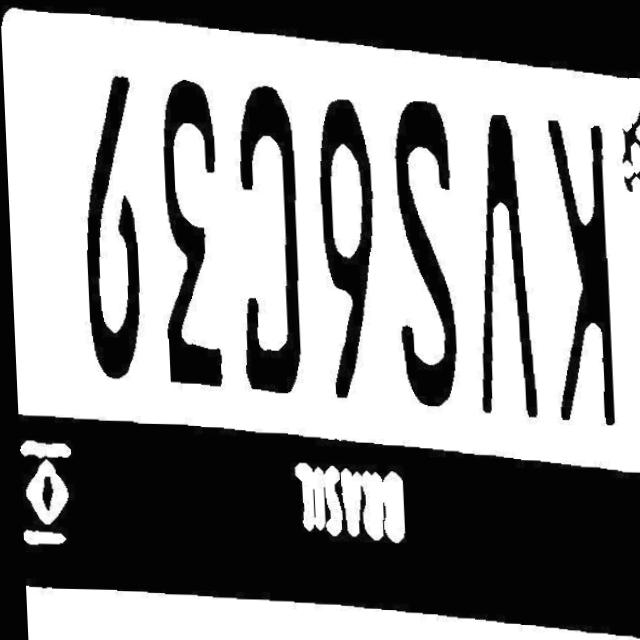3: (149, 91, 231, 423)
6: (309, 105, 380, 426)
9: (69, 80, 149, 423)
c: (222, 94, 315, 419)
k: (539, 104, 629, 426)
s: (383, 102, 471, 429)
v: (473, 111, 552, 422)
